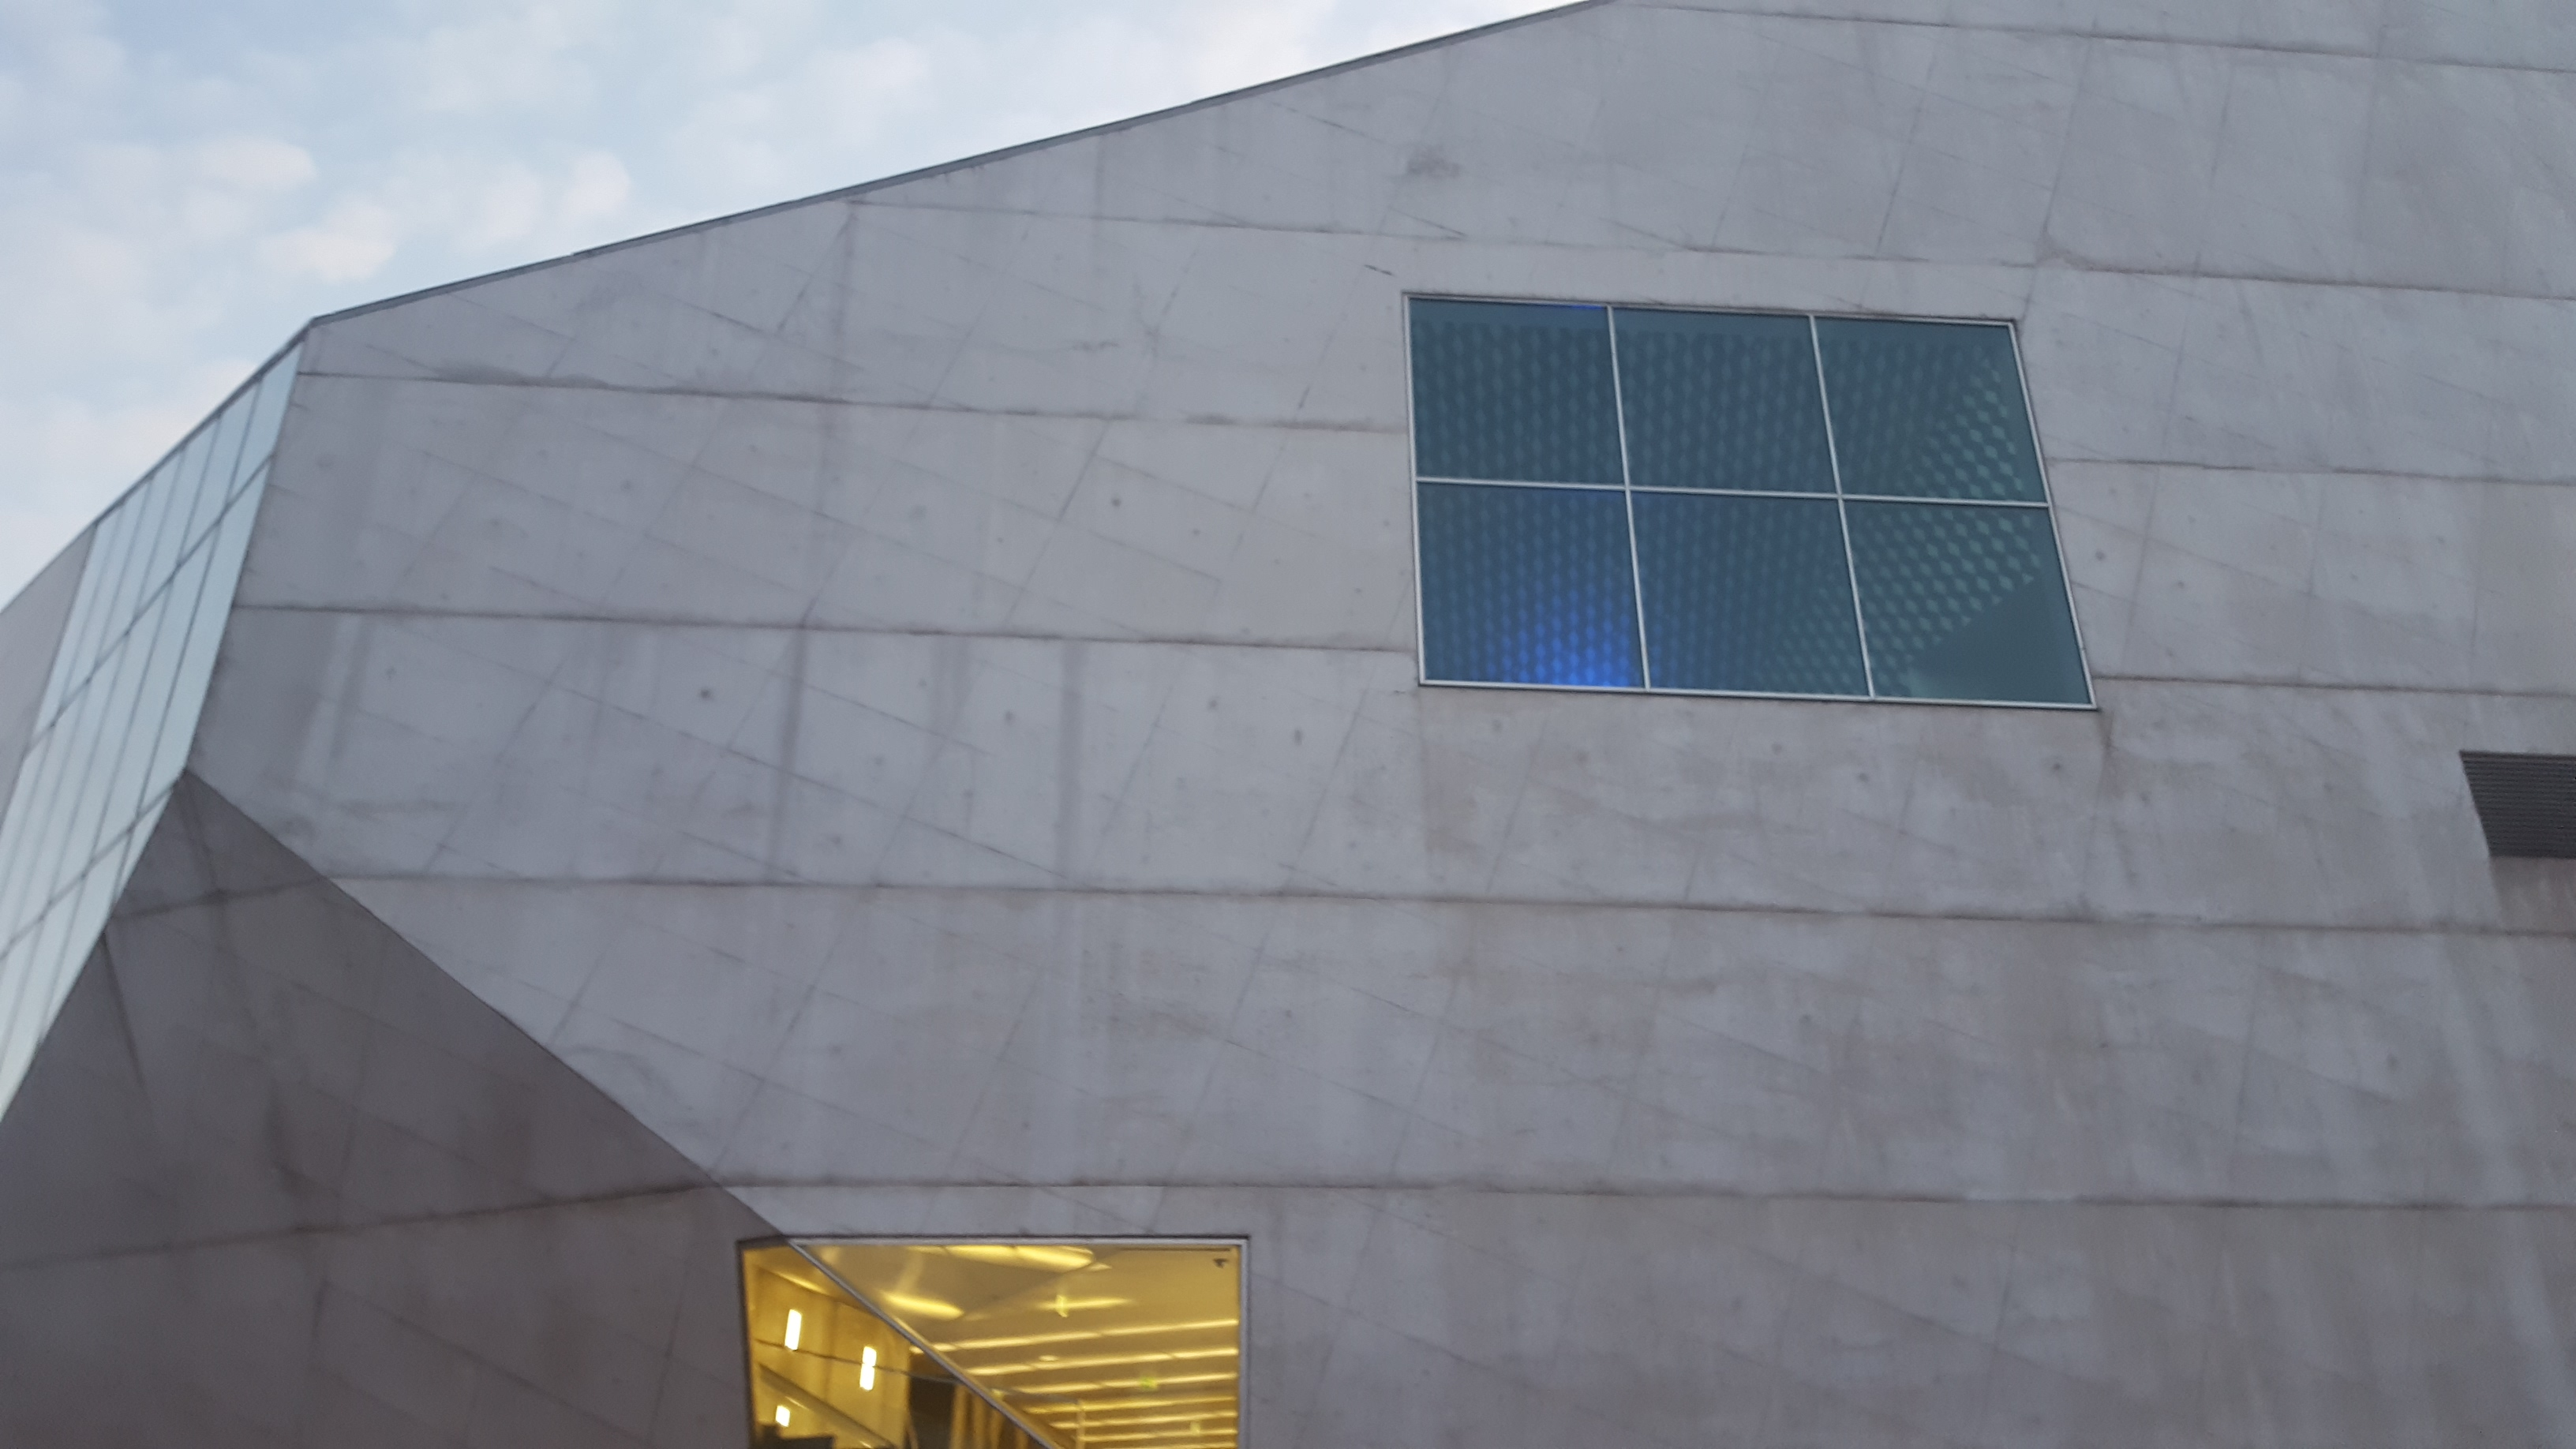musica: (0, 0, 2572, 1444)
